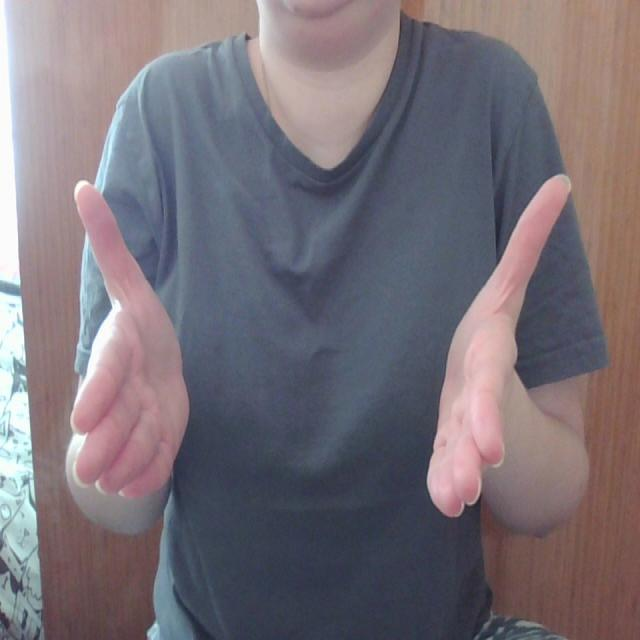Nasil: (57, 164, 580, 548)
